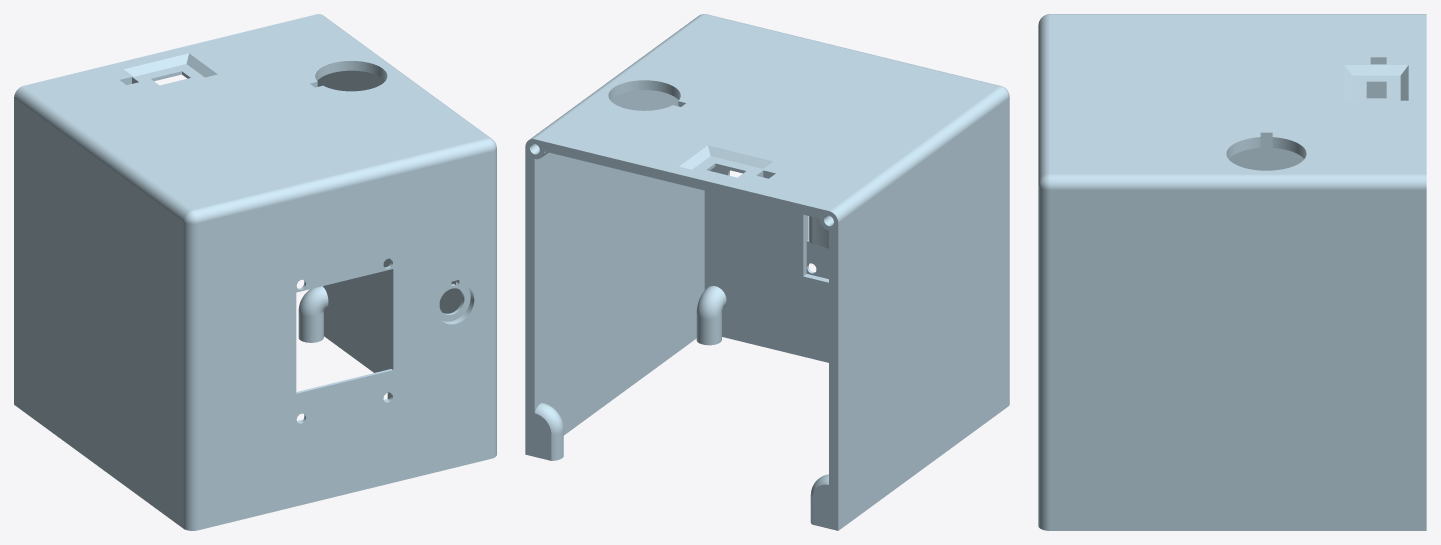
The model's file is LCD lid.glb.
3 renders of one model, left to right at view 1: azimuth 30°, elevation 25°; view 2: azimuth 150°, elevation 25°; view 3: azimuth 270°, elevation 25°, orthographic. The views are drawn at different scales.
Visible parts, largest first — view 1: Part 1; view 2: Part 1; view 3: Part 1.
Part boxes in pixels (x1,y1,x2,y2): Part 1: [14, 14, 496, 530]; Part 1: [525, 14, 1009, 530]; Part 1: [1038, 14, 1426, 530].
Size of the model in its own units: 0.1 by 0.097 by 0.097.
